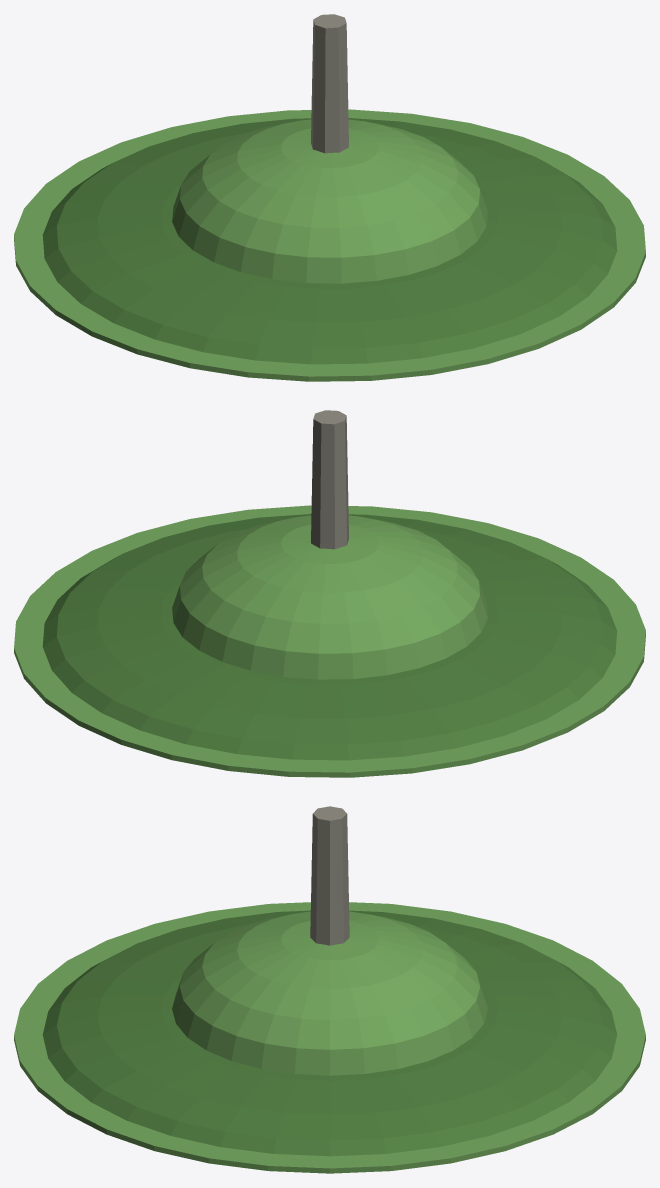
File: tara.glb
The picture shows the model from 3 angles, top to bottom: view 1: azimuth 30°, elevation 25°; view 2: azimuth 150°, elevation 25°; view 3: azimuth 270°, elevation 25°; orthographic projection.
Size of the model in its own units: 2.2 by 0.87 by 2.2.
